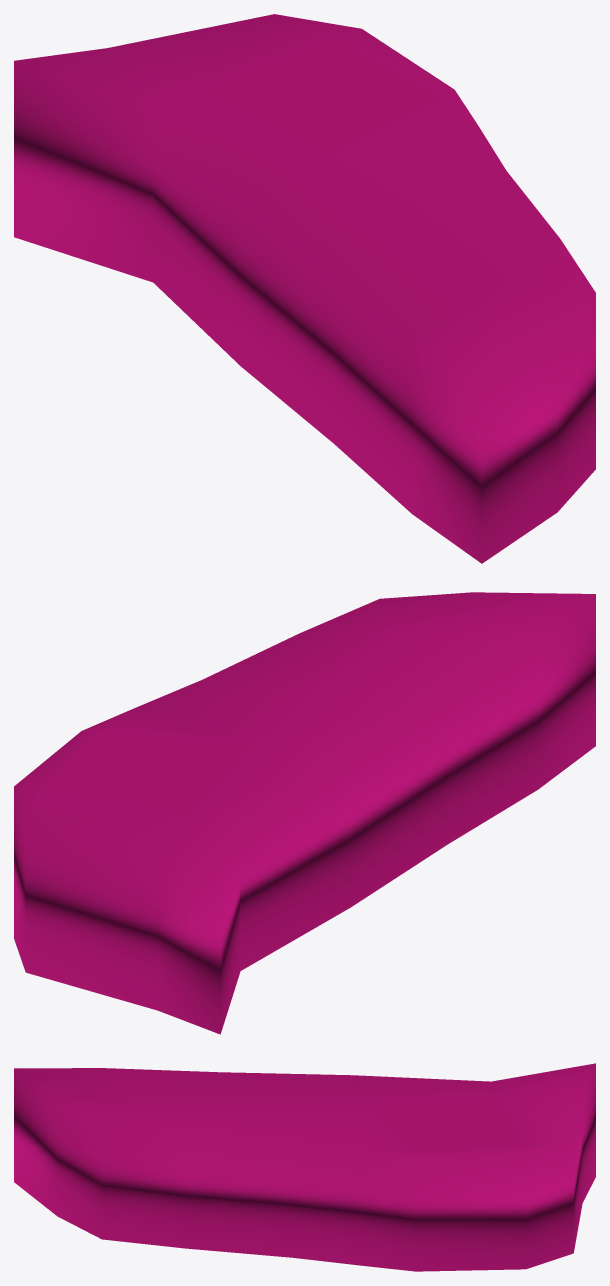
The model's file is circle_puzzle_piece_1.glb.
The picture shows the model from 3 angles, top to bottom: view 1: azimuth 30°, elevation 25°; view 2: azimuth 150°, elevation 25°; view 3: azimuth 270°, elevation 25°; orthographic projection. The views are drawn at different scales.
Parts seen in each view (by area): view 1: circle_puzzle.001; view 2: circle_puzzle.001; view 3: circle_puzzle.001.
Part boxes in pixels (x1,y1,x2,y2): circle_puzzle.001: [14, 14, 595, 563]; circle_puzzle.001: [14, 592, 595, 1034]; circle_puzzle.001: [14, 1063, 595, 1271].
Bounding box in the file's own units: 0.9755 × 0.5465 × 2.54.
